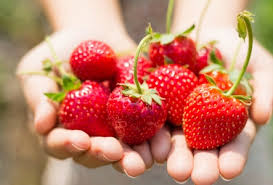strawberry: (181, 83, 248, 151), (104, 83, 169, 149), (59, 82, 120, 140), (145, 66, 201, 128), (71, 39, 118, 79)
